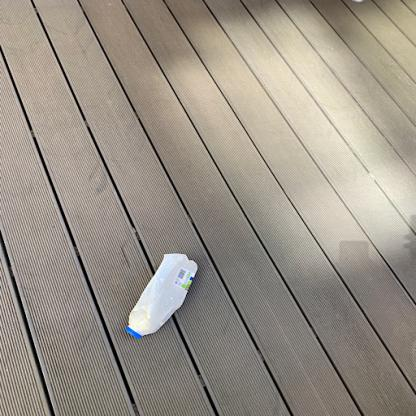trash: (120, 252, 202, 341)
